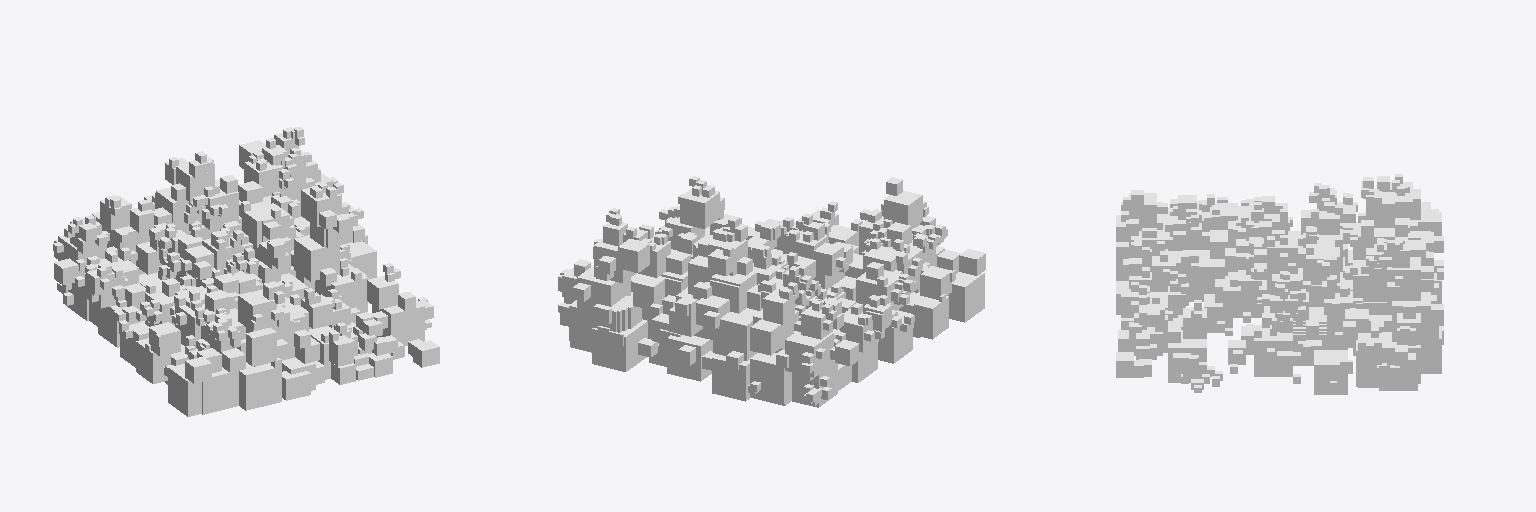
Rendered from Kuang.obj.
3 views of the same model, side by side, from view 1: azimuth 30°, elevation 25°; view 2: azimuth 150°, elevation 25°; view 3: azimuth 270°, elevation 25° (orthographic).
Visible parts, largest first — view 1: Kuang; view 2: Kuang; view 3: Kuang.
Part boxes in pixels (x1,y1,x2,y2): Kuang: (53, 127, 439, 416); Kuang: (558, 176, 985, 407); Kuang: (1116, 174, 1443, 394).
Bounding box in the file's own units: 126 × 61 × 126.